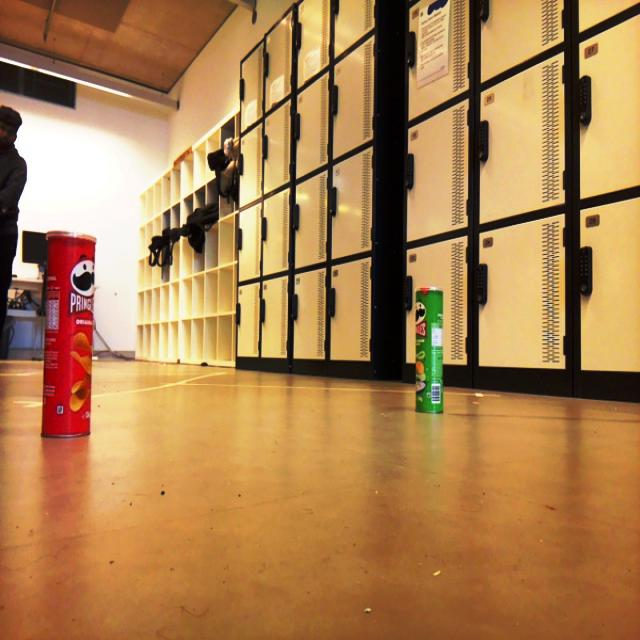greenpringles: (404, 276, 456, 425)
redpringles: (35, 210, 102, 468)
